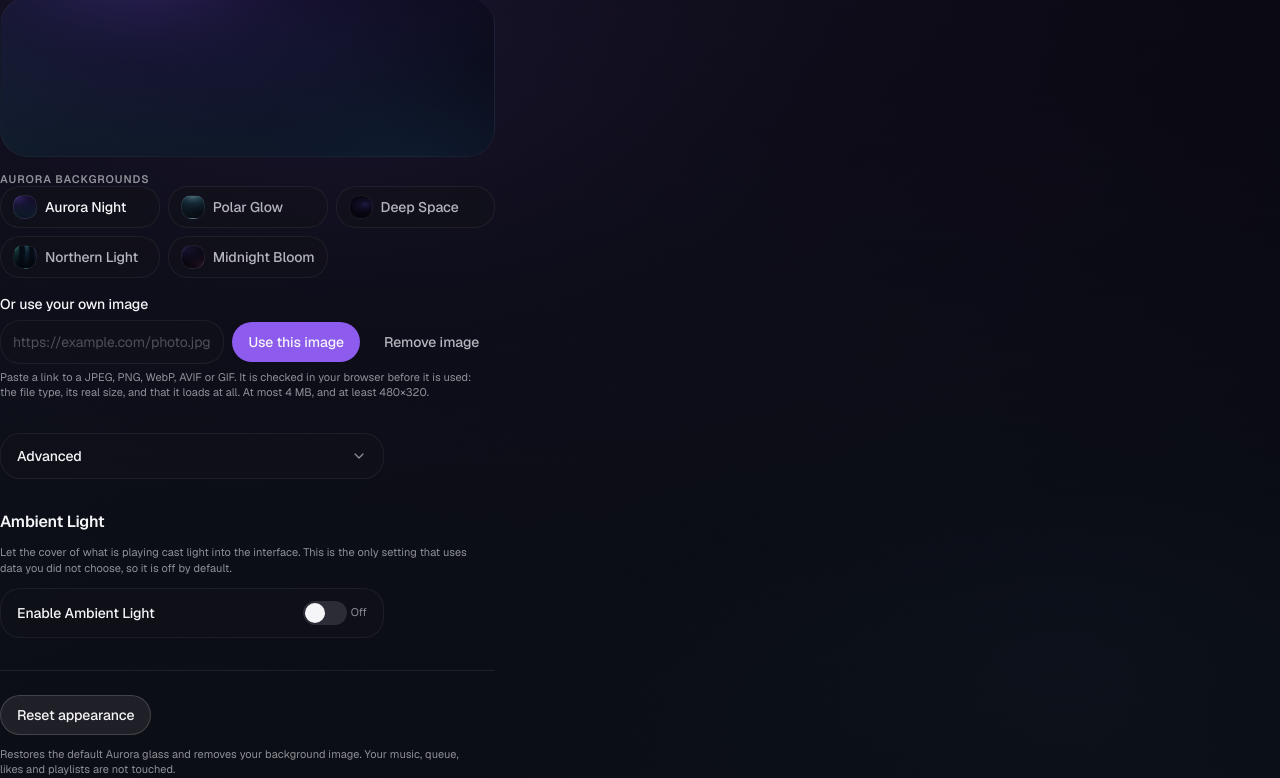
Test case: Appearance panel: image-only Advanced controls admit they need a background › re-enables them the moment a background exists
The image size is (1280, 778).
(page scrolled)
Step 1. Click the button with test id "appearance-advanced-toggle" → (49, 456), box [0,433,384,479]
(page scrolled)
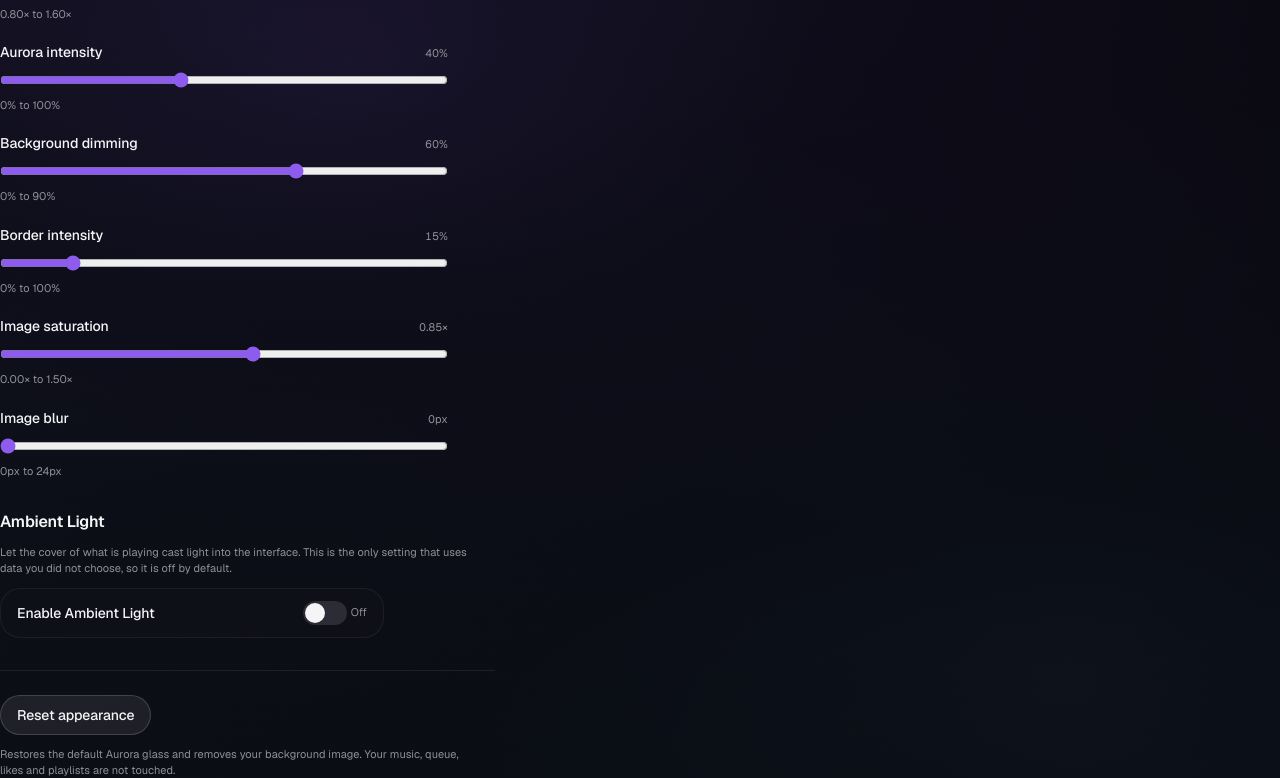
Expected: the slider with test id "control-backgroundDim" is enabled, [0,159,448,183]
